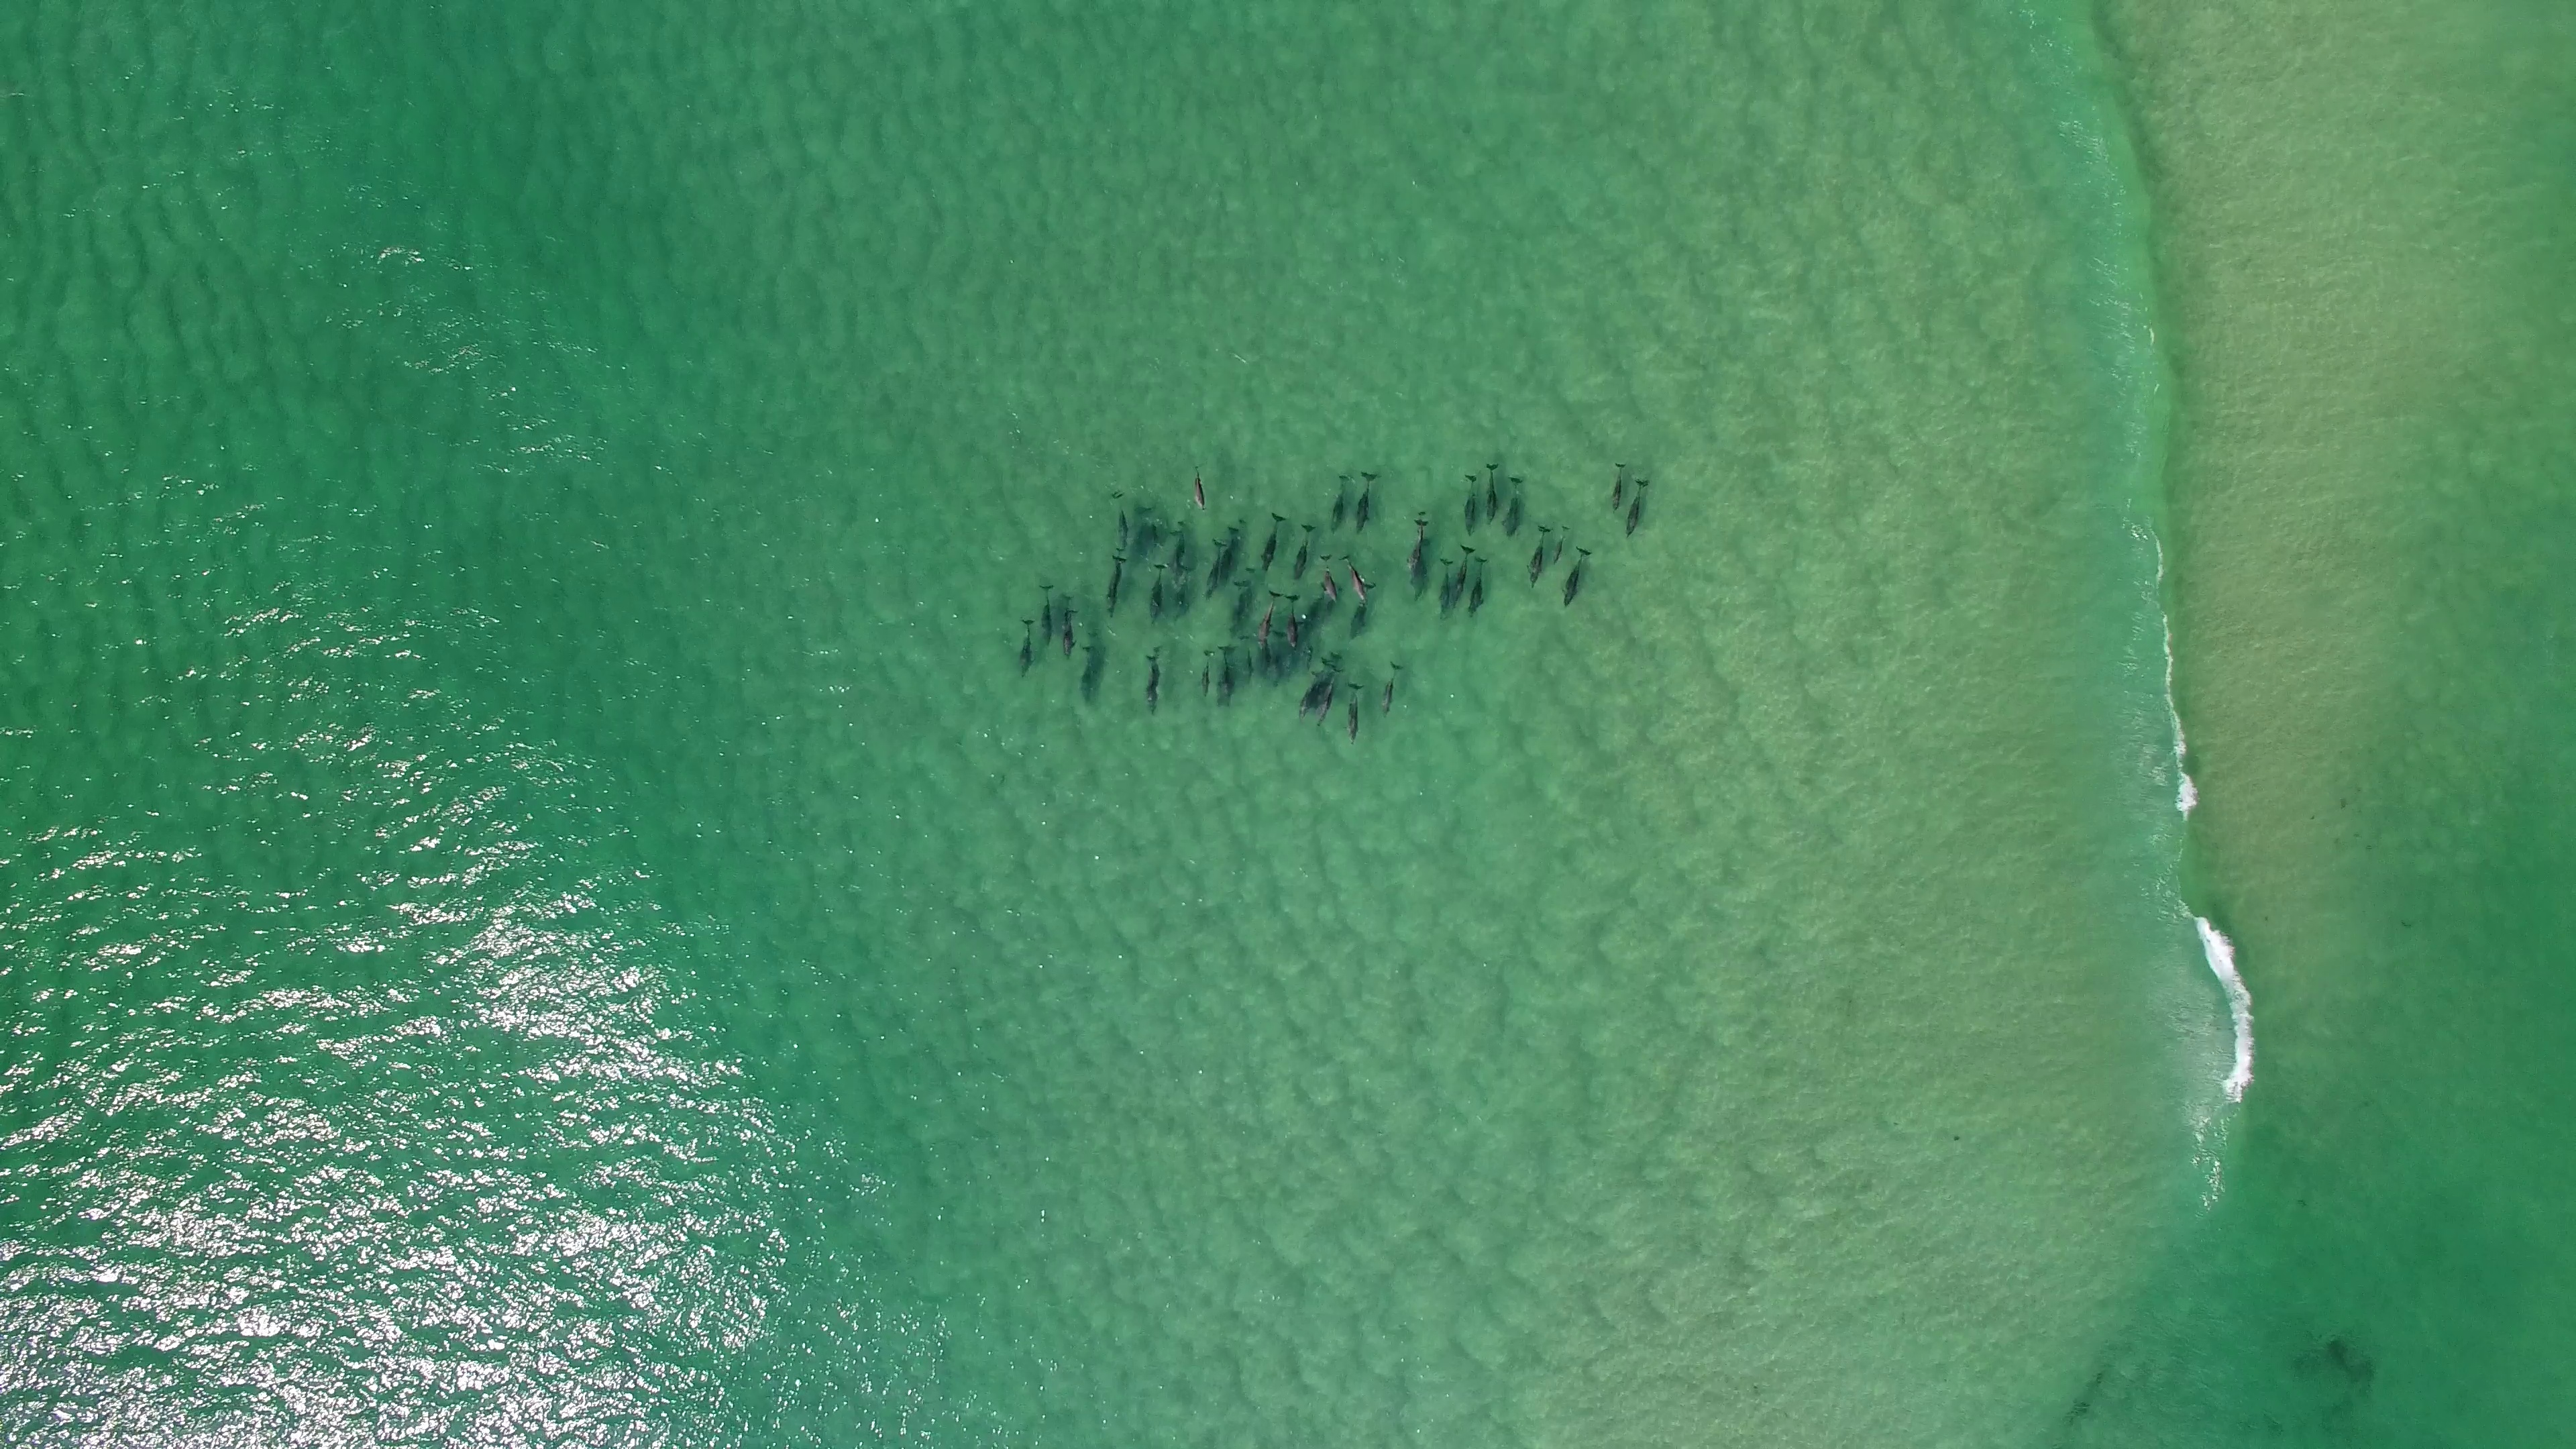dolphin: (1562, 547, 1592, 605), (1313, 651, 1341, 709), (1338, 552, 1368, 605), (1217, 524, 1244, 584), (1102, 556, 1129, 616), (1355, 469, 1380, 531), (1451, 541, 1474, 607), (1292, 524, 1318, 580), (1467, 556, 1491, 616), (1527, 520, 1548, 589), (1407, 518, 1430, 580), (1175, 554, 1196, 619), (1626, 478, 1649, 538), (1350, 579, 1373, 639), (1318, 667, 1341, 727), (1146, 563, 1169, 623), (1258, 589, 1281, 648), (1504, 474, 1525, 536), (1316, 554, 1341, 607), (1226, 580, 1247, 640), (1346, 683, 1366, 748), (1111, 490, 1131, 556), (1297, 669, 1323, 717), (1329, 474, 1352, 529), (1263, 513, 1286, 568), (1437, 556, 1454, 623), (1060, 593, 1077, 658), (1382, 660, 1401, 717), (1483, 460, 1499, 527), (1039, 582, 1054, 649), (1217, 646, 1235, 706), (1205, 538, 1223, 598), (1463, 471, 1479, 536), (1171, 518, 1192, 566), (1145, 655, 1161, 717), (1191, 464, 1210, 513), (1081, 648, 1099, 701), (1019, 619, 1033, 681), (1284, 593, 1299, 649), (1612, 460, 1628, 510), (1553, 522, 1569, 566), (1201, 649, 1214, 699), (1240, 639, 1254, 681)
